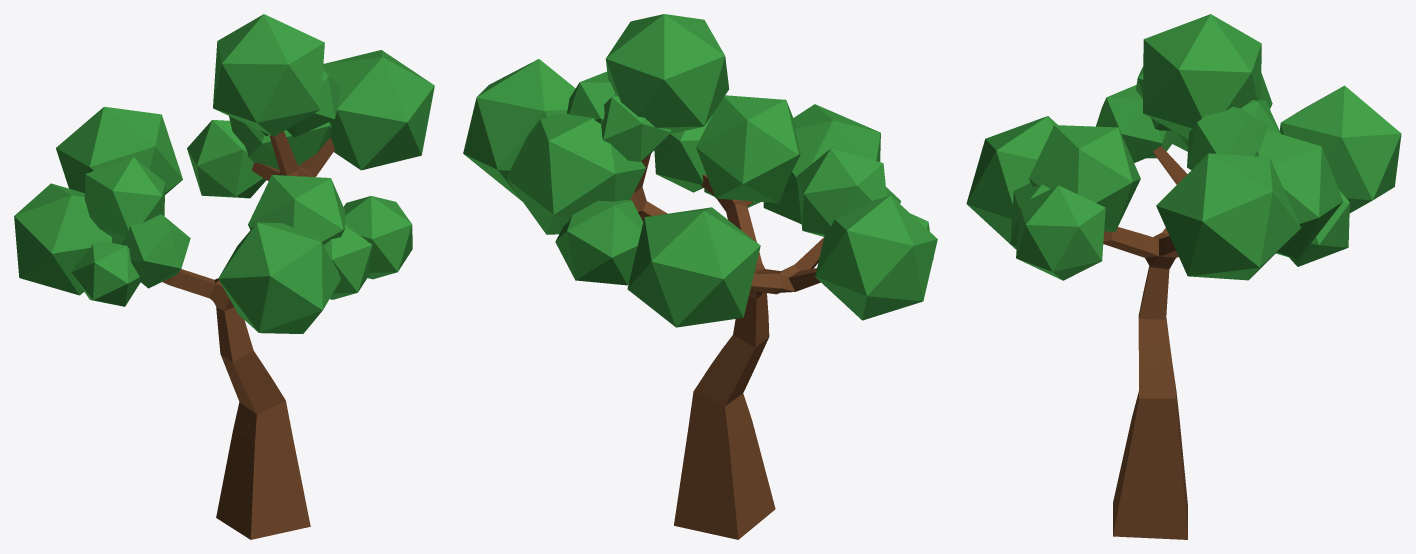
The model's file is tree1-1.fbx.
3 renders of one model, left to right at view 1: azimuth 30°, elevation 25°; view 2: azimuth 150°, elevation 25°; view 3: azimuth 270°, elevation 25°, orthographic. The views are drawn at different scales.
Parts seen in each view (by area): view 1: Cube, Icosphere.006, Icosphere.001, Icosphere.007, Icosphere.003, Icosphere.004, Icosphere.010, Icosphere.009, Icosphere.005, Icosphere, Icosphere.002, Icosphere.011 (+3 smaller); view 2: Cube, Icosphere.004, Icosphere.006, Icosphere.003, Icosphere.012, Icosphere.009, Icosphere.007, Icosphere.005, Icosphere.010, Icosphere.001, Icosphere.014, Icosphere (+1 smaller); view 3: Cube, Icosphere.007, Icosphere.006, Icosphere.004, Icosphere.009, Icosphere, Icosphere.012, Icosphere.001, Icosphere.013, Icosphere.002, Icosphere.005, Icosphere.008 (+1 smaller).
Boxes of the visible parts, x1,y1,x2,y2 form: Cube: (162,131,334,539); Icosphere.006: (213,14,324,136); Icosphere.001: (218,222,340,333); Icosphere.007: (323,50,434,170); Icosphere.003: (14,183,112,295); Icosphere.004: (56,106,182,194); Icosphere.010: (84,156,165,244); Icosphere.009: (248,175,345,245); Icosphere.005: (187,120,266,198); Icosphere: (343,196,412,279); Icosphere.002: (122,214,190,288); Icosphere.011: (71,240,140,306); Cube: (630,154,824,539); Icosphere.004: (627,207,760,327); Icosphere.006: (605,14,728,133); Icosphere.003: (815,195,937,320); Icosphere.012: (506,113,645,234); Icosphere.009: (696,95,800,203); Icosphere.007: (463,59,575,201); Icosphere.005: (555,200,643,285); Icosphere.010: (797,148,886,236); Icosphere.001: (763,104,880,224); Icosphere.014: (601,94,671,161); Icosphere: (654,114,712,192); Cube: (1103,146,1187,539); Icosphere.007: (1156,153,1300,280); Icosphere.006: (1143,14,1261,139); Icosphere.004: (1279,85,1401,212); Icosphere.009: (1029,125,1140,231); Icosphere: (1016,185,1105,280); Icosphere.012: (1254,130,1343,259); Icosphere.001: (966,116,1057,249); Icosphere.013: (1187,106,1268,169); Icosphere.002: (1096,85,1166,162); Icosphere.005: (1289,190,1349,266); Icosphere.008: (1010,183,1050,247).
Bounding box in the file's own units: 162 × 183 × 138.
